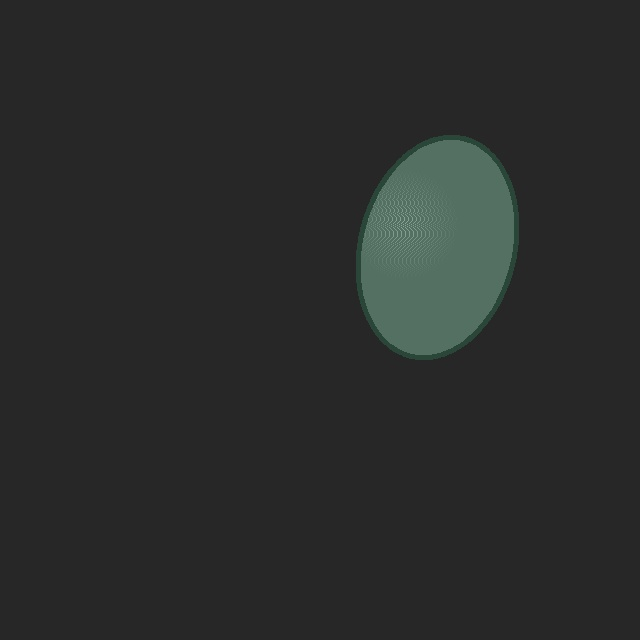lens: (358, 137, 516, 357)
